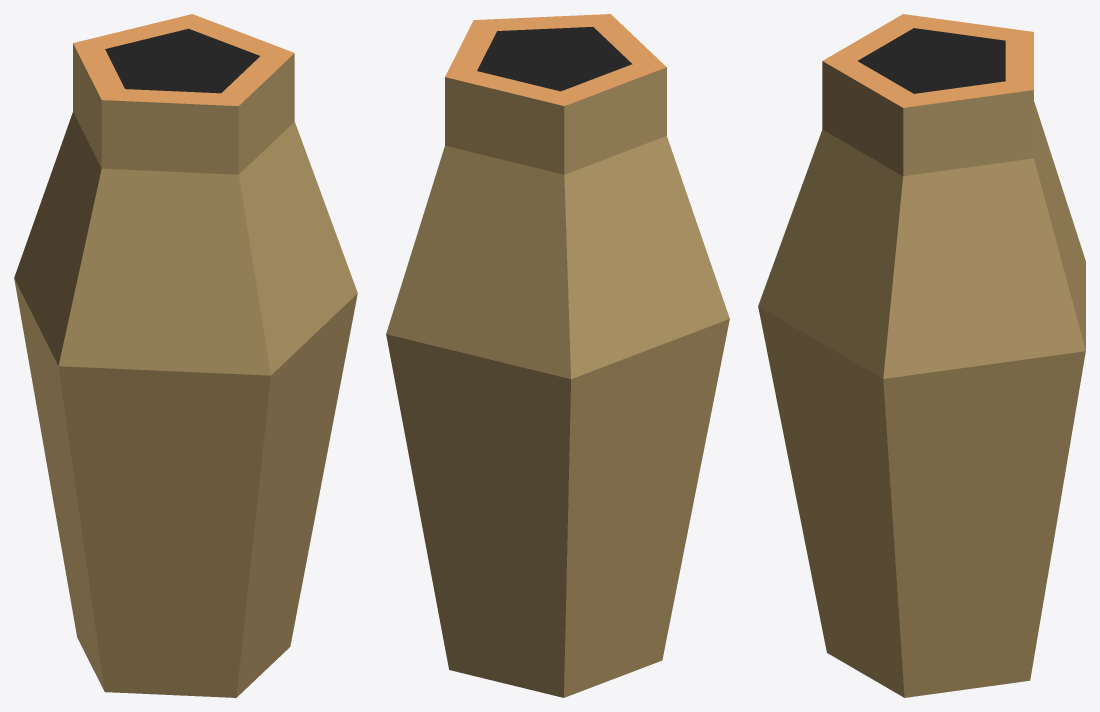
Rendered from TB_Prop_Jar_Tall_A.FBX.
3 views of the same model, side by side, from view 1: azimuth 30°, elevation 25°; view 2: azimuth 150°, elevation 25°; view 3: azimuth 270°, elevation 25° (orthographic).
Parts seen in each view (by area): view 1: TB_Prop_Jar_Tall_A; view 2: TB_Prop_Jar_Tall_A; view 3: TB_Prop_Jar_Tall_A.
Part boxes in pixels (x1,y1,x2,y2): TB_Prop_Jar_Tall_A: [14, 14, 357, 697]; TB_Prop_Jar_Tall_A: [386, 14, 729, 697]; TB_Prop_Jar_Tall_A: [758, 14, 1085, 697].
Size of the model in its own units: 0.9512 by 1.8 by 0.9046.
